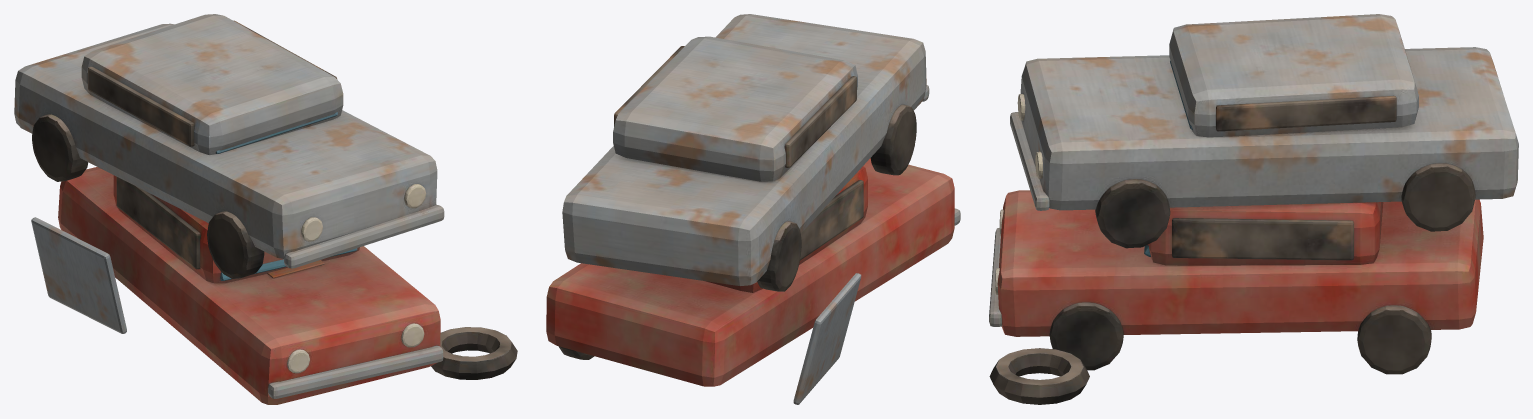
File: car_stack_b.glb
The picture shows the model from 3 angles, left to right: view 1: azimuth 30°, elevation 25°; view 2: azimuth 150°, elevation 25°; view 3: azimuth 270°, elevation 25°; orthographic projection. The views are drawn at different scales.
Parts seen in each view (by area): view 1: CarB_Mesh, CarA_Mesh, CarStack_Mesh; view 2: CarB_Mesh, CarA_Mesh, CarStack_Mesh; view 3: CarB_Mesh, CarA_Mesh, CarStack_Mesh.
Boxes of the visible parts, <box> form: CarB_Mesh: <box>14,14,444,278</box>; CarA_Mesh: <box>58,167,443,404</box>; CarStack_Mesh: <box>31,217,517,379</box>; CarB_Mesh: <box>562,14,929,291</box>; CarA_Mesh: <box>546,158,960,386</box>; CarStack_Mesh: <box>793,273,861,404</box>; CarB_Mesh: <box>1010,14,1518,248</box>; CarA_Mesh: <box>989,190,1483,374</box>; CarStack_Mesh: <box>989,348,1089,404</box>.
Bounding box in the file's own units: 3.05 × 2.34 × 4.22.
Materials: 3 (3 with a texture image).
